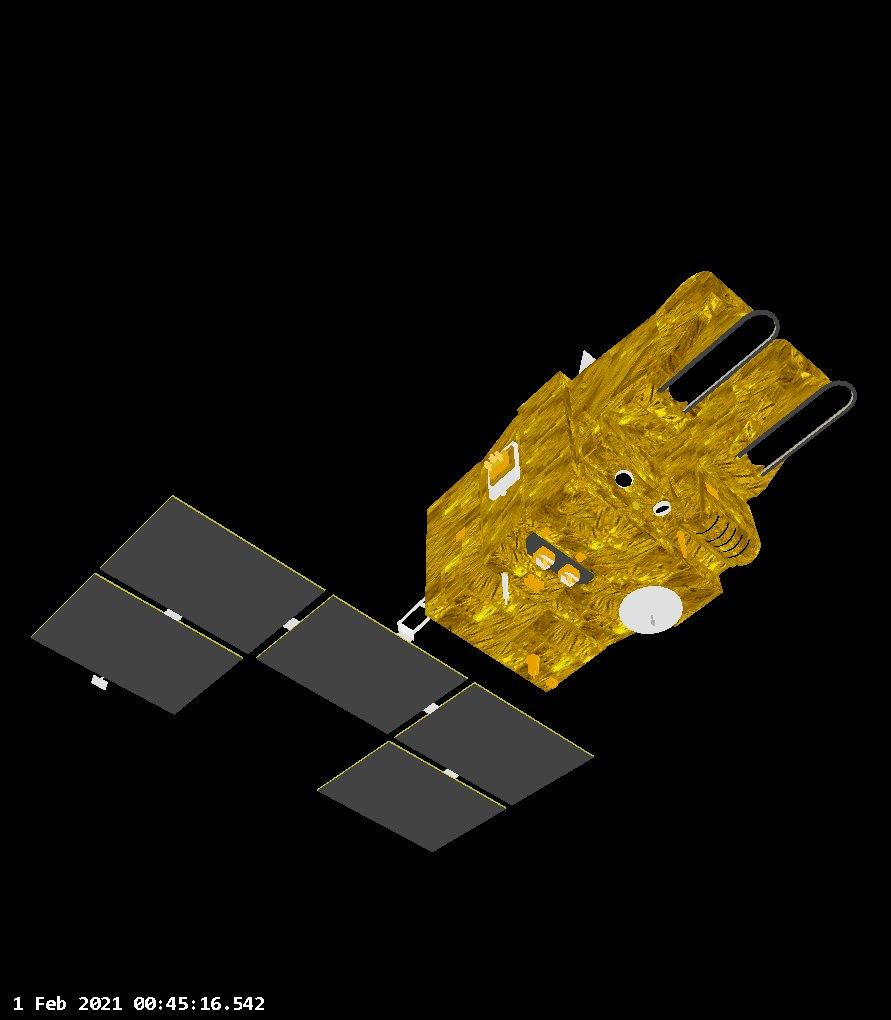antenna: (619, 584, 684, 636), (494, 564, 516, 606)
body: (422, 257, 835, 693)
solar: (32, 491, 597, 858)
